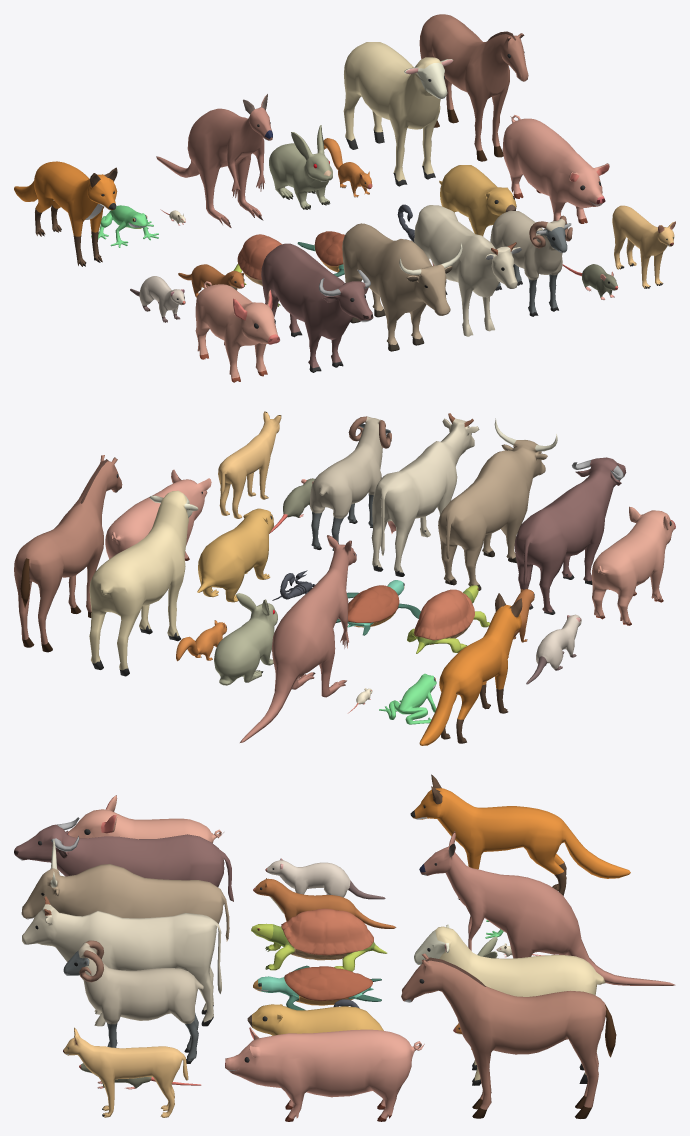
The model's file is animal2.fbx.
The picture shows the model from 3 angles, top to bottom: view 1: azimuth 30°, elevation 25°; view 2: azimuth 150°, elevation 25°; view 3: azimuth 270°, elevation 25°; orthographic projection. The views are drawn at different scales.
Visible parts, largest first — view 1: sheep, yak, water_buffalo, horse, pig, kangaroo, zebu, fox, miniature_pig, sheep1, praire_dog, rabbit (+8 smaller); view 2: sheep, yak, horse, water_buffalo, kangaroo, zebu, fox, miniature_pig, sheep1, praire_dog, rabbit, tortoise (+9 smaller); view 3: horse, pig, zebu, kangaroo, fox, yak, water_buffalo, sheep1, sheep, tortoise, serval, turtle (+4 smaller).
Boxes of the visible parts, <box> form: sheep: <box>343,42,453,186</box>; yak: <box>342,223,462,351</box>; water_buffalo: <box>261,243,373,372</box>; horse: <box>419,14,528,161</box>; pig: <box>502,115,609,223</box>; kangaroo: <box>156,94,272,227</box>; zebu: <box>414,205,521,336</box>; fox: <box>14,161,117,266</box>; miniature_pig: <box>195,281,279,382</box>; sheep1: <box>490,210,572,316</box>; praire_dog: <box>439,165,516,236</box>; rabbit: <box>269,125,332,209</box>; sheep: <box>89,490,198,676</box>; yak: <box>438,418,557,590</box>; horse: <box>14,455,122,652</box>; water_buffalo: <box>514,457,626,614</box>; kangaroo: <box>240,535,356,742</box>; zebu: <box>371,413,479,576</box>; fox: <box>419,593,522,745</box>; miniature_pig: <box>591,506,675,625</box>; sheep1: <box>310,416,391,550</box>; praire_dog: <box>197,508,273,602</box>; rabbit: <box>214,593,277,685</box>; tortoise: <box>407,585,490,653</box>; horse: <box>401,953,616,1118</box>; pig: <box>225,1027,424,1121</box>; zebu: <box>22,896,221,1026</box>; kangaroo: <box>419,831,675,985</box>; fox: <box>410,774,630,899</box>; yak: <box>21,839,229,941</box>; water_buffalo: <box>14,817,233,901</box>; sheep1: <box>63,940,203,1063</box>; sheep: <box>414,924,605,1085</box>; tortoise: <box>251,908,387,971</box>; serval: <box>63,1027,188,1117</box>; turtle: <box>253,965,381,1010</box>.
Bounding box in the file's own units: 23.72 × 7.51 × 27.51.
